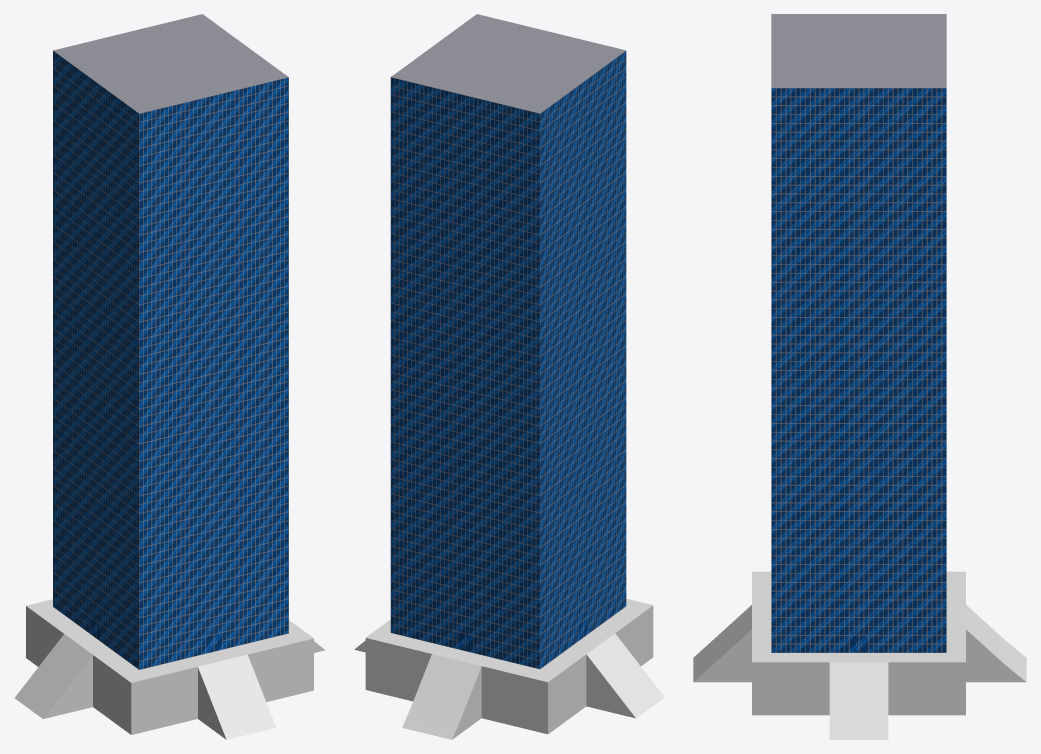
The model's file is Skyscraper.fbx.
The picture shows the model from 3 angles, left to right: view 1: azimuth 30°, elevation 25°; view 2: azimuth 150°, elevation 25°; view 3: azimuth 270°, elevation 25°; orthographic projection.
Visible parts, largest first — view 1: Skyscraper001, Building_Slops001; view 2: Skyscraper001, Building_Slops001; view 3: Skyscraper001, Building_Slops001.
Part boxes in pixels (left/top/right/bottom): Skyscraper001: left=53, top=14, right=288, bottom=669; Building_Slops001: left=14, top=599, right=324, bottom=739; Skyscraper001: left=390, top=14, right=626, bottom=669; Building_Slops001: left=354, top=598, right=664, bottom=739; Skyscraper001: left=771, top=14, right=946, bottom=652; Building_Slops001: left=693, top=571, right=1026, bottom=739.
Bounding box in the file's own units: 3400 × 7019 × 3420.
